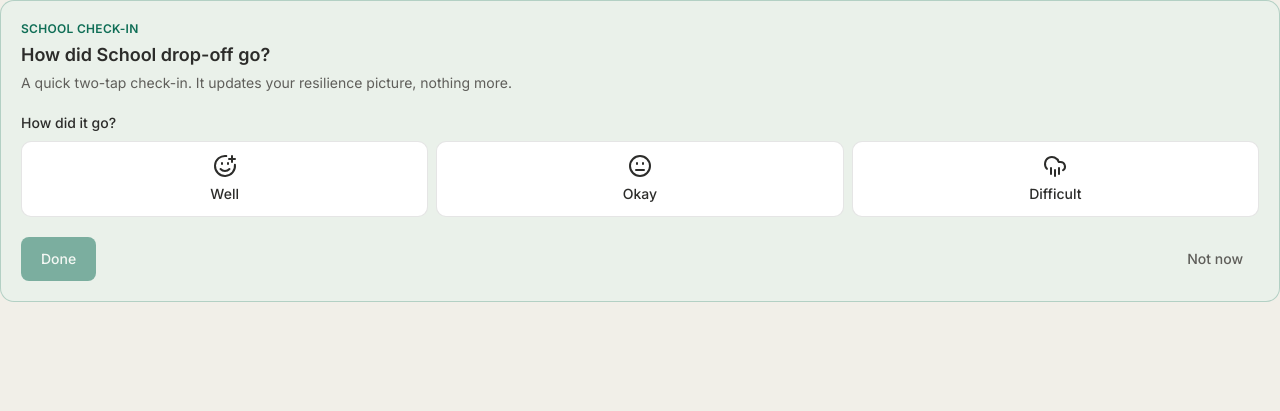
Scenario: PulseCard › keeps a softened challenge question on 'Difficult' (legend 'What felt hardest?', 'Other / not sure' kept)
Click the button "Difficult" at (1055, 179), box [852,141,1259,217]
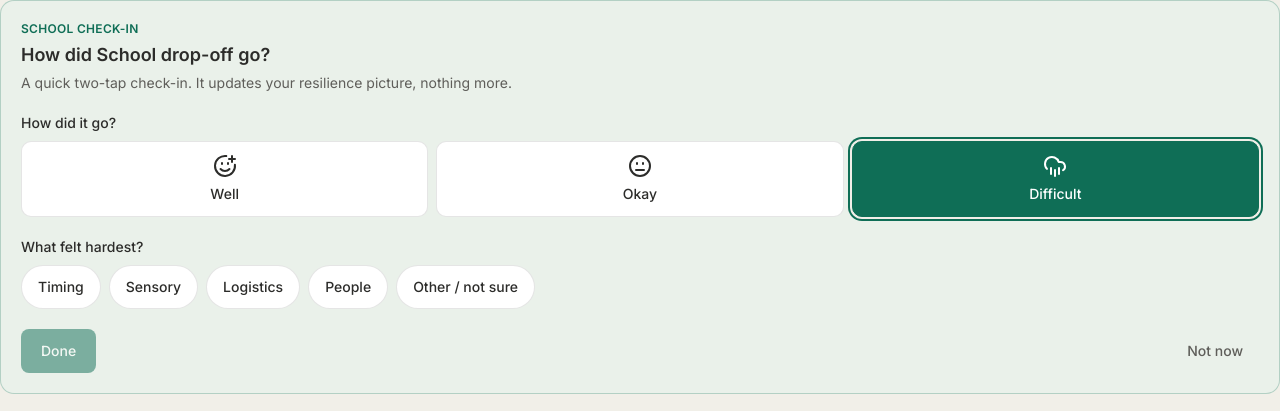
Check: the text "What felt hardest?" is shown, box [21,237,143,257]
Check: the button "Other / not sure" is shown, box [396,265,535,309]
